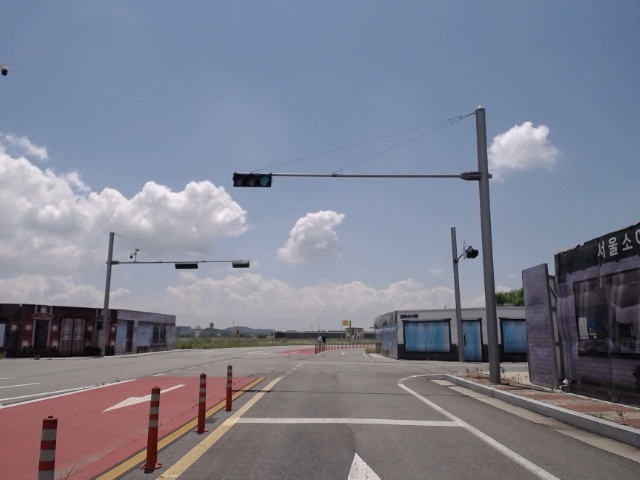green_3: (235, 174, 272, 187)
